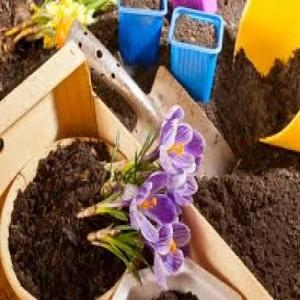Saffron: (128, 225, 206, 285), (125, 175, 184, 231), (157, 105, 204, 175)
